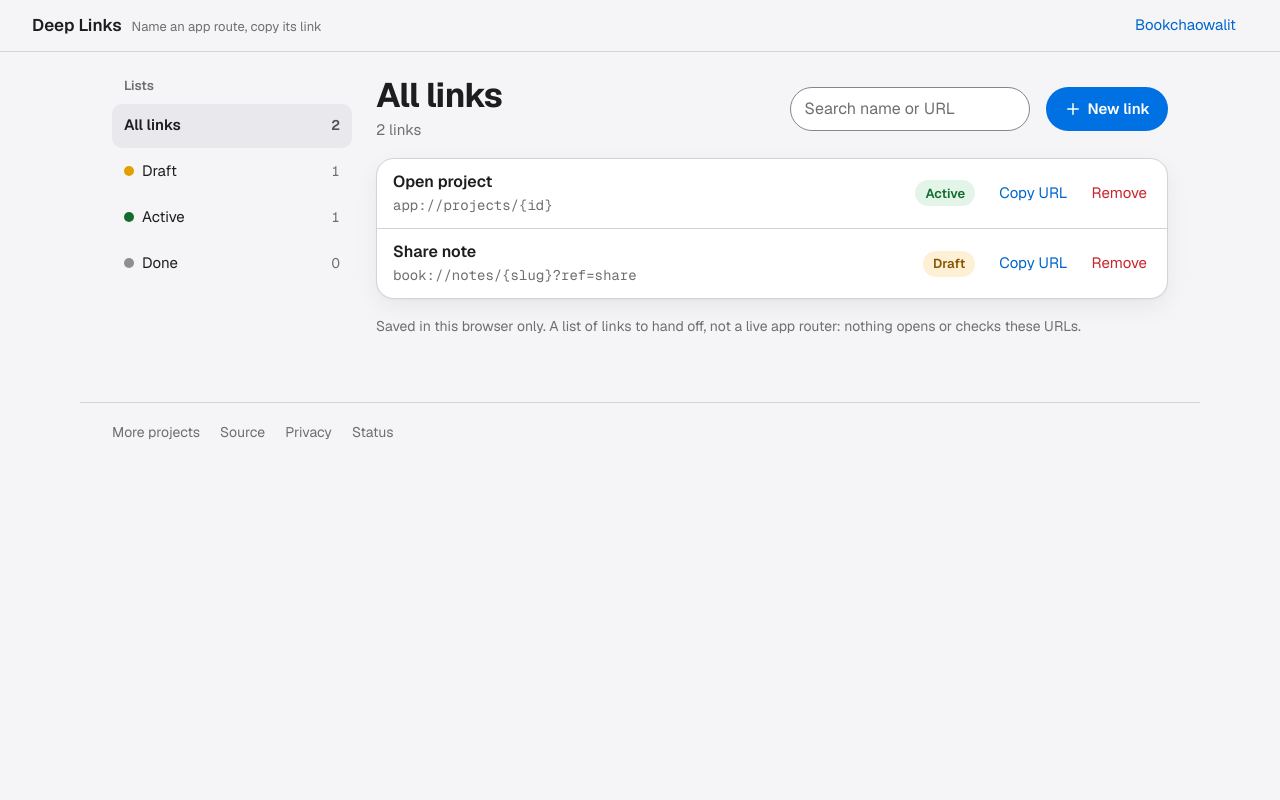
Test: deep links › keyboard removal focuses Undo; Undo focuses the restored link, Escape the next one
Later steps or results of the test are not shown.
Click the button "Remove" in the row of "Open project" at (1119, 193), box [1080,171,1159,215]
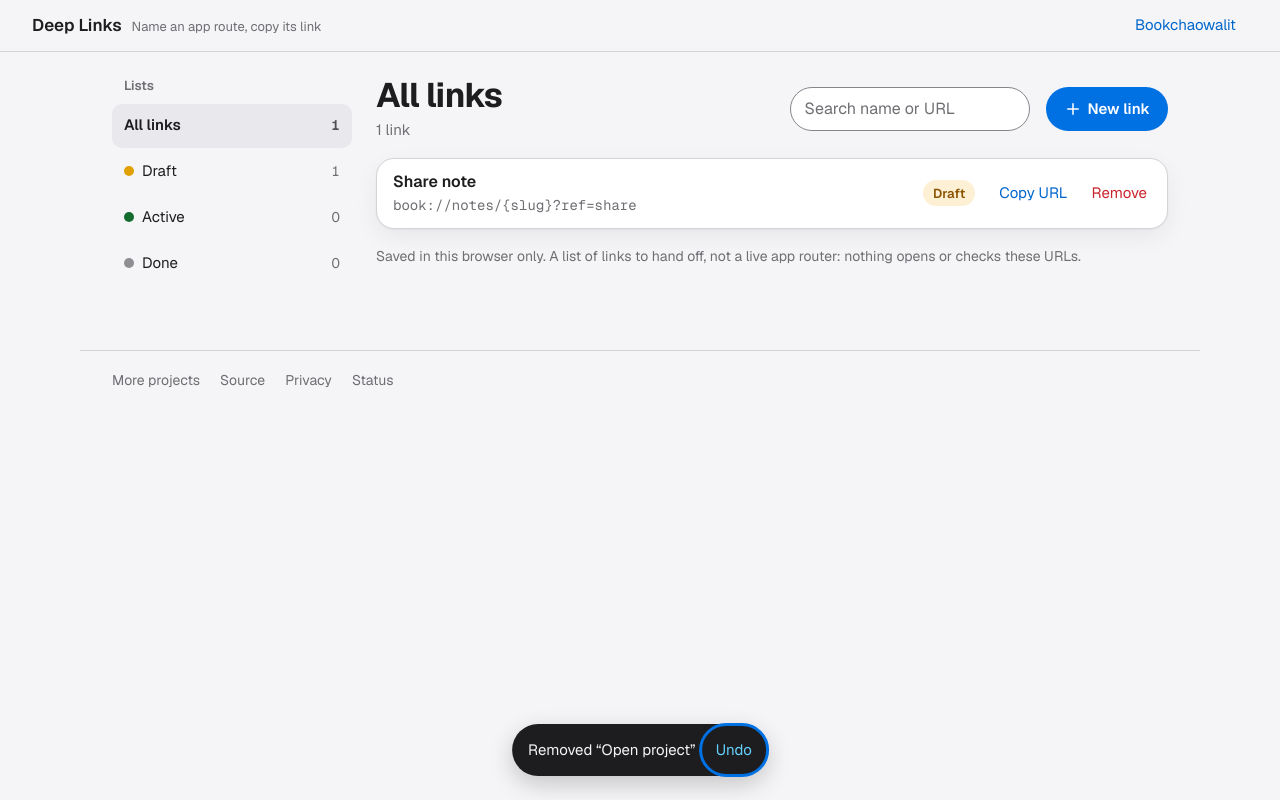
Click the button "Undo" at (734, 750), box [704,728,764,772]
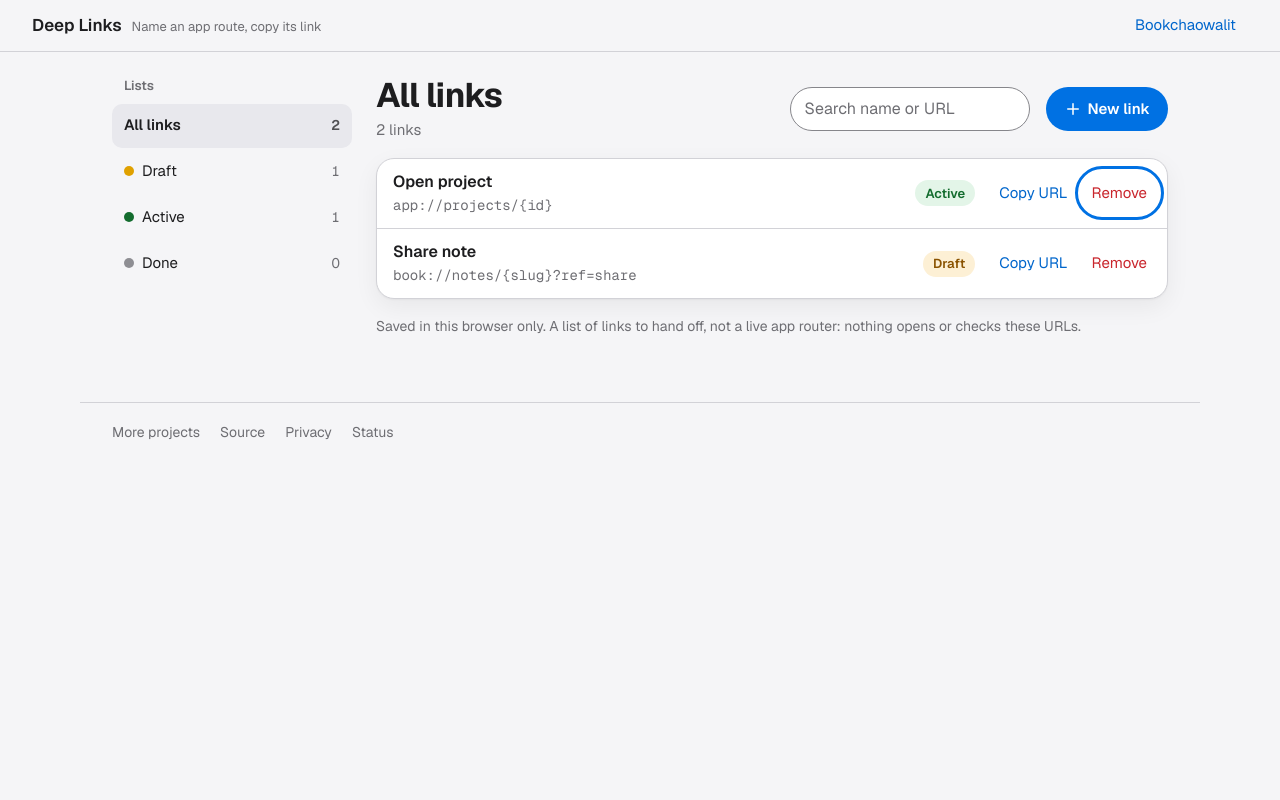
Click the button "Remove" in the row of "Open project" at (1119, 193), box [1080,171,1159,215]
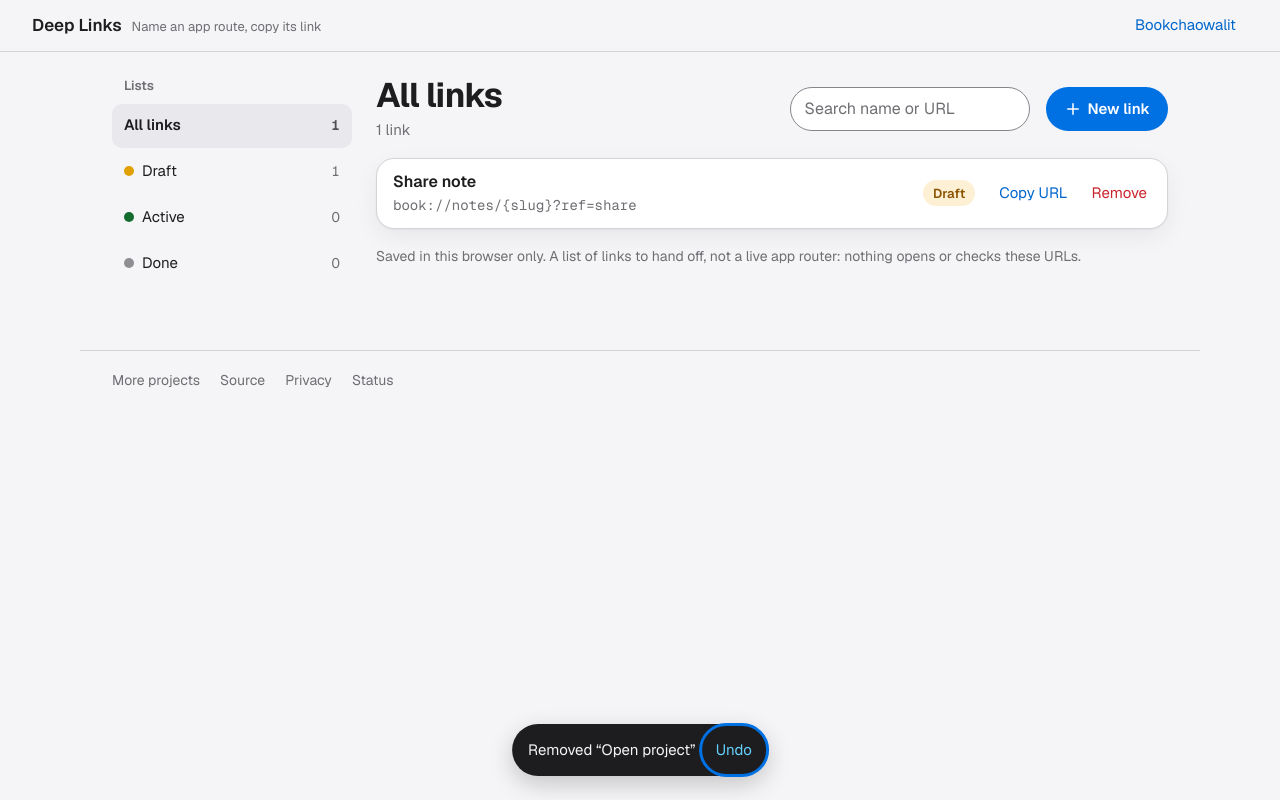
Press Escape in the element with class "as-toast", box [512,724,768,776]
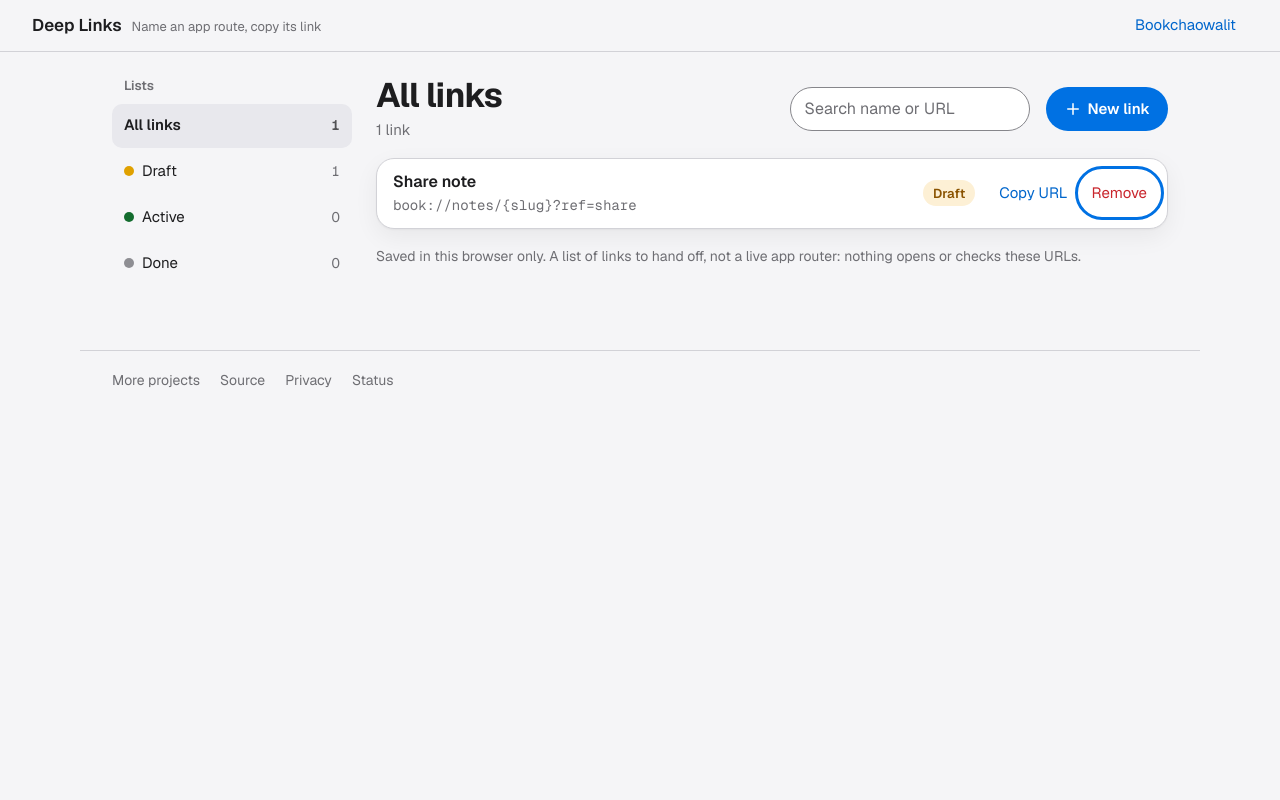
Expected: the element with class "as-toast" is gone
